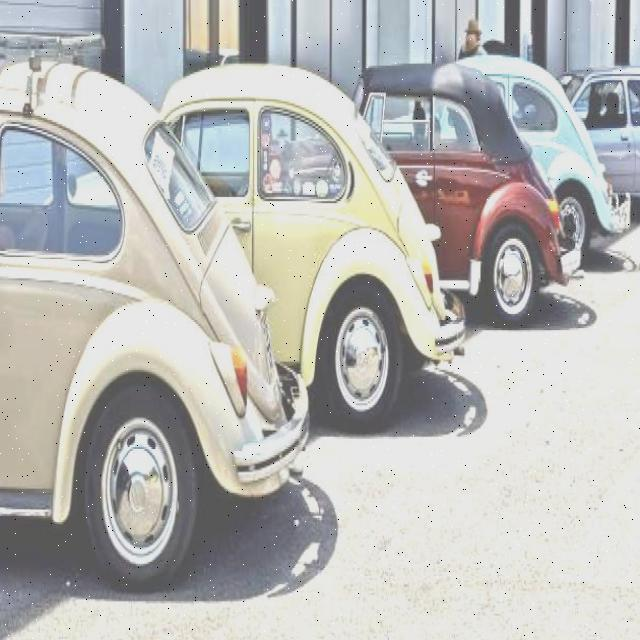car: (0, 57, 289, 564), (124, 79, 446, 425), (339, 70, 554, 323), (431, 44, 599, 242)
